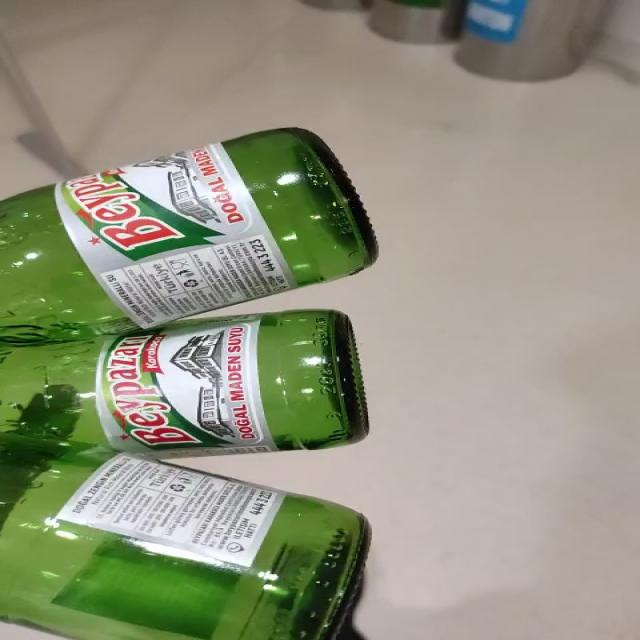glass: (1, 128, 377, 640)
